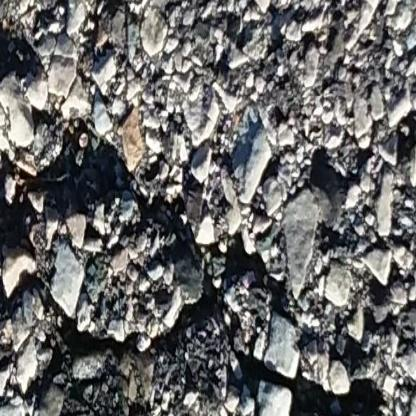Cracks: (0, 110, 416, 416), (293, 110, 416, 223), (0, 12, 47, 95)
